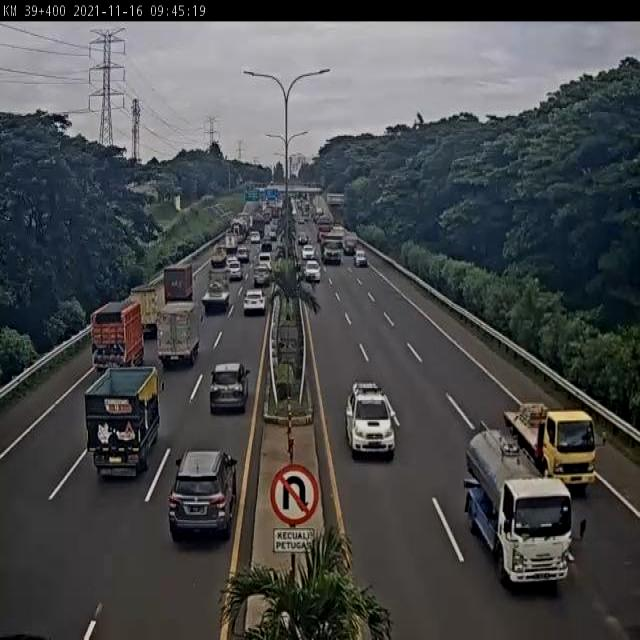Car: (170, 450, 238, 548), (346, 382, 398, 461), (208, 363, 252, 414), (243, 291, 266, 316), (303, 259, 322, 284), (343, 233, 358, 255), (229, 261, 243, 283), (254, 267, 268, 287), (354, 250, 368, 266), (302, 246, 316, 261), (236, 248, 250, 262), (260, 238, 272, 252), (298, 233, 309, 245), (250, 231, 261, 242)
Truck: (463, 424, 573, 594), (84, 366, 165, 475), (504, 403, 598, 491), (91, 302, 144, 376), (156, 303, 201, 371), (160, 262, 197, 311), (132, 284, 168, 334), (204, 265, 232, 321), (321, 231, 343, 267), (210, 244, 227, 265)
Van: (258, 252, 272, 275)
